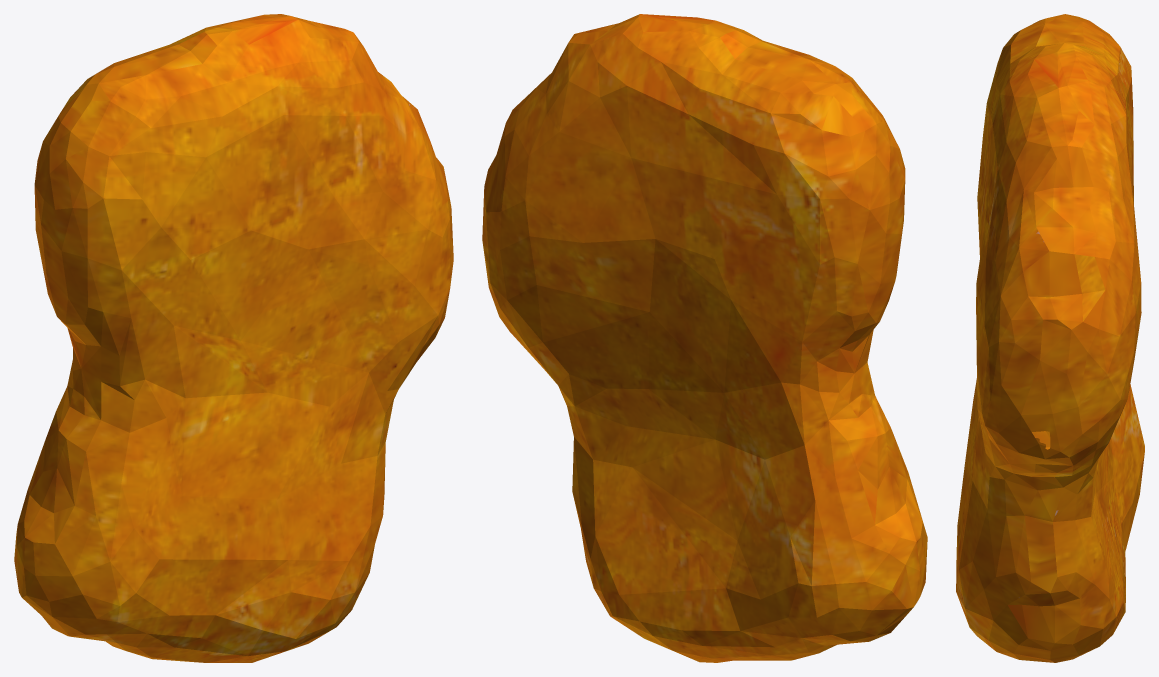
The model's file is nugget.fbx.
3 renders of one model, left to right at view 1: azimuth 30°, elevation 25°; view 2: azimuth 150°, elevation 25°; view 3: azimuth 270°, elevation 25°, orthographic. The views are drawn at different scales.
Visible parts, largest first — view 1: nugget; view 2: nugget; view 3: nugget.
Boxes of the visible parts, x1=… form: nugget: x1=14, y1=14, x2=453, y2=662; nugget: x1=482, y1=14, x2=927, y2=662; nugget: x1=956, y1=14, x2=1144, y2=662.
Bounding box in the file's own units: 97.23 × 140 × 39.9.
1 material, 1 textured.
